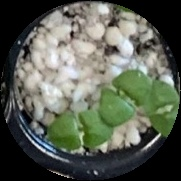Basil: (45, 110, 114, 151), (101, 69, 151, 121), (149, 81, 179, 135)
